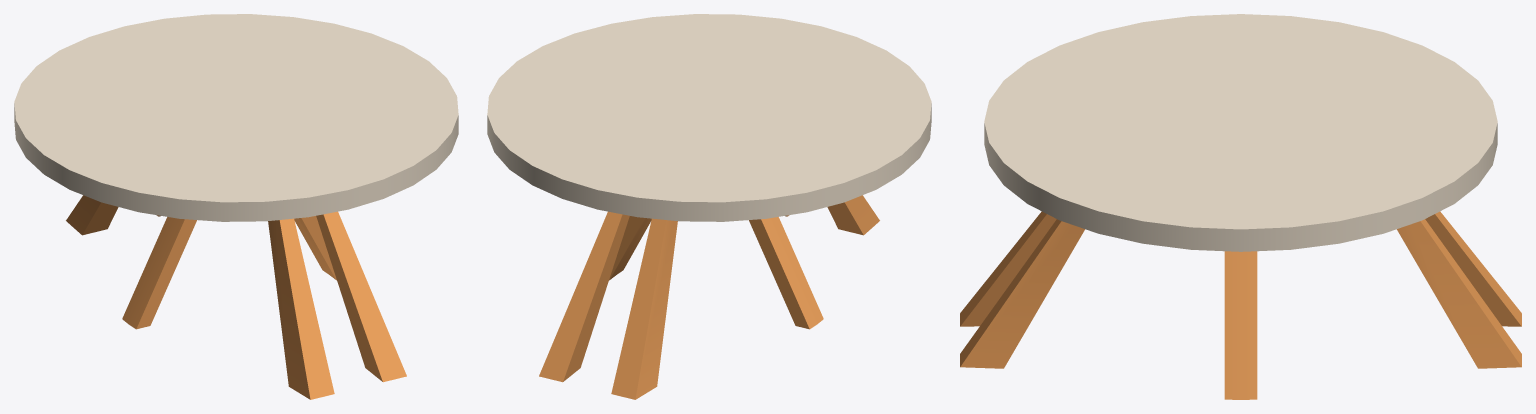
Rendered from table.fbx.
The picture shows the model from 3 angles, left to right: view 1: azimuth 30°, elevation 25°; view 2: azimuth 150°, elevation 25°; view 3: azimuth 270°, elevation 25°; orthographic projection. The views are drawn at different scales.
Parts seen in each view (by area): view 1: Cylinder; view 2: Cylinder; view 3: Cylinder.
Boxes of the visible parts, left/top/right/bottom form: Cylinder: left=14, top=14, right=458, bottom=399; Cylinder: left=487, top=14, right=931, bottom=399; Cylinder: left=960, top=14, right=1521, bottom=399.
Bounding box in the file's own units: 618 × 292 × 681.
